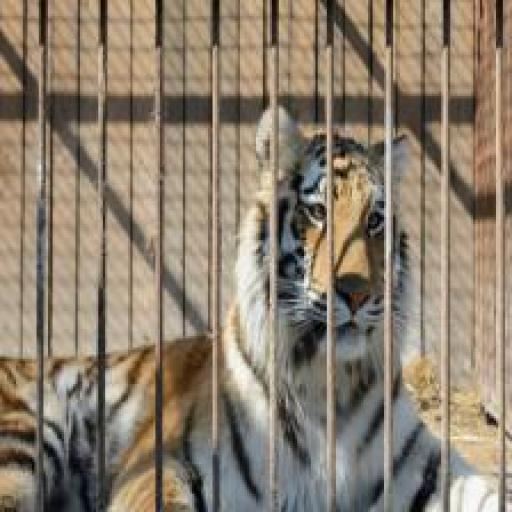Tiger: (11, 25, 494, 502)
